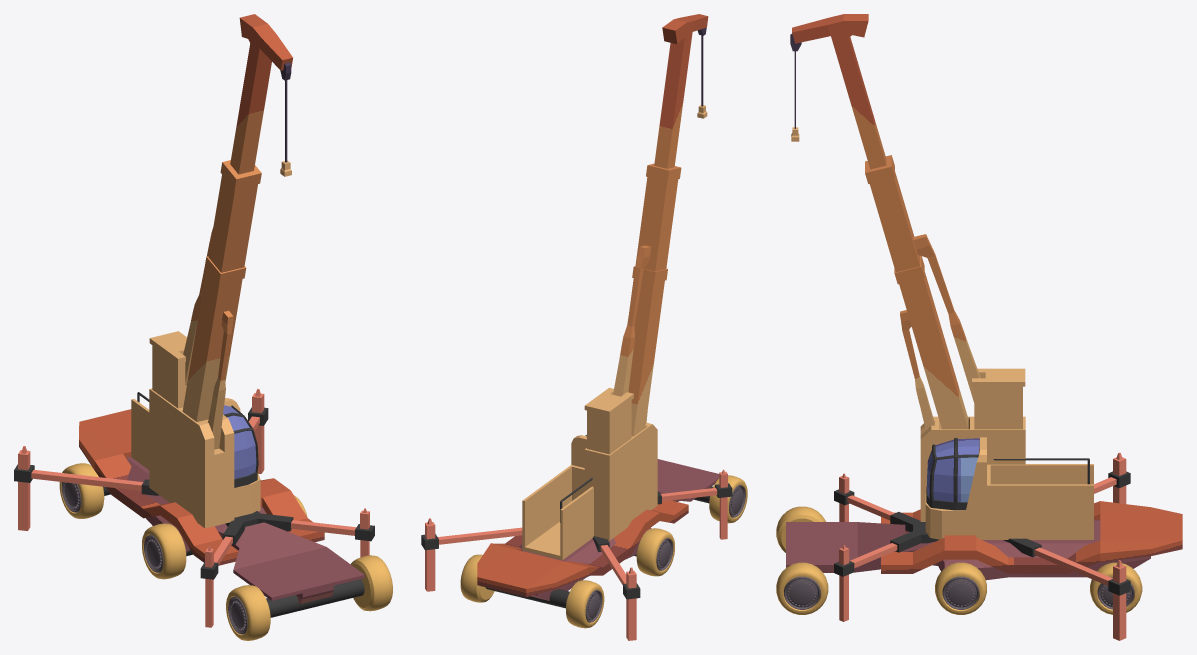
File: crane.glb
3 renders of one model, left to right at view 1: azimuth 30°, elevation 25°; view 2: azimuth 150°, elevation 25°; view 3: azimuth 270°, elevation 25°, orthographic. The views are drawn at different scales.
Parts seen in each view (by area): view 1: Cube.001; view 2: Cube.001; view 3: Cube.001.
Boxes of the visible parts, bbox=[...] form: Cube.001: bbox=[14, 14, 392, 640]; Cube.001: bbox=[421, 14, 747, 640]; Cube.001: bbox=[776, 14, 1182, 640].
Bounding box in the file's own units: 17.43 × 38.54 × 25.61.
1 material, 1 textured.
